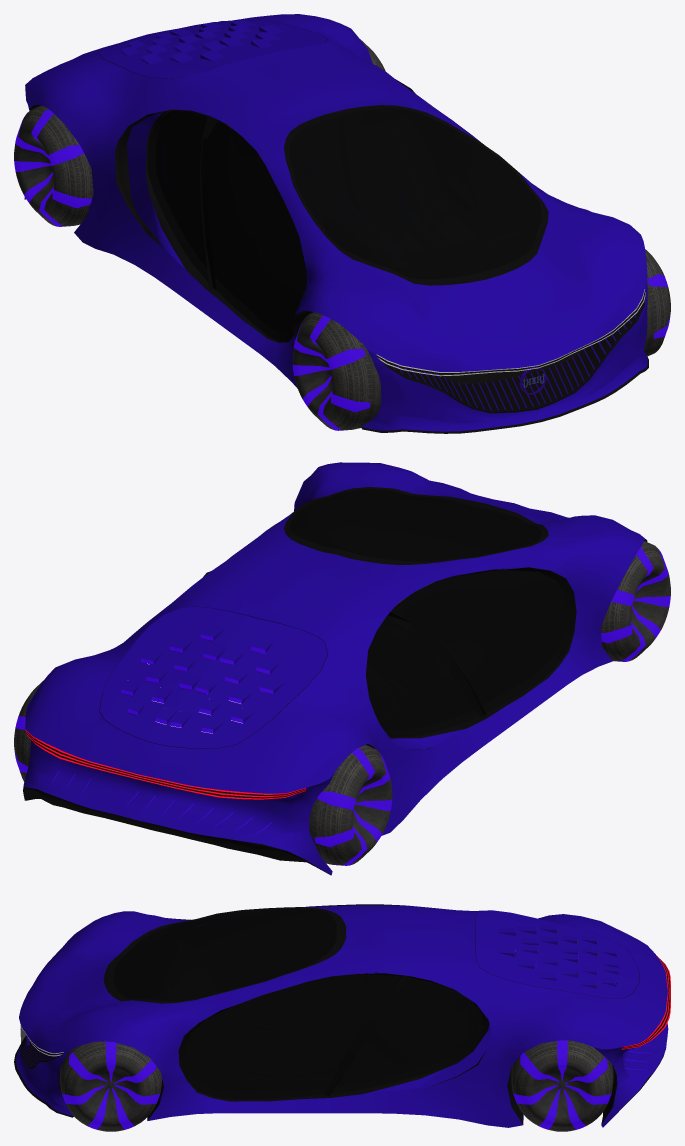
File: mercedes.glb
3 views of the same model, one above another, from view 1: azimuth 30°, elevation 25°; view 2: azimuth 150°, elevation 25°; view 3: azimuth 270°, elevation 25° (orthographic). The views are drawn at different scales.
Parts seen in each view (by area): view 1: car, doorR, wheelR, wheelB, BRANQUEAS, wheelL, led2, led1; view 2: car, doorR, wheelB, wheelR, BRANQUEAS; view 3: car, doorL, wheelB, wheelL, BRANQUEAS.
Part boxes in pixels (box(x1,y1,x2,y2)): car: box(24, 14, 648, 433); doorR: box(147, 110, 306, 341); wheelR: box(292, 312, 381, 430); wheelB: box(14, 39, 385, 226); BRANQUEAS: box(121, 20, 284, 64); wheelL: box(643, 249, 670, 356); led2: box(393, 306, 640, 410); led1: box(376, 289, 645, 376); car: box(23, 462, 647, 875); doorR: box(365, 567, 576, 736); wheelB: box(14, 680, 392, 865); wheelR: box(600, 541, 670, 661); BRANQUEAS: box(121, 626, 285, 733); car: box(14, 905, 670, 1127); doorL: box(179, 972, 487, 1099); wheelB: box(511, 931, 613, 1131); wheelL: box(60, 1041, 162, 1131); BRANQUEAS: box(497, 924, 618, 988).
Size of what is drawn, in the model's own units: 3.4 by 1.69 by 7.06.
Materials: 13 (5 with a texture image).
